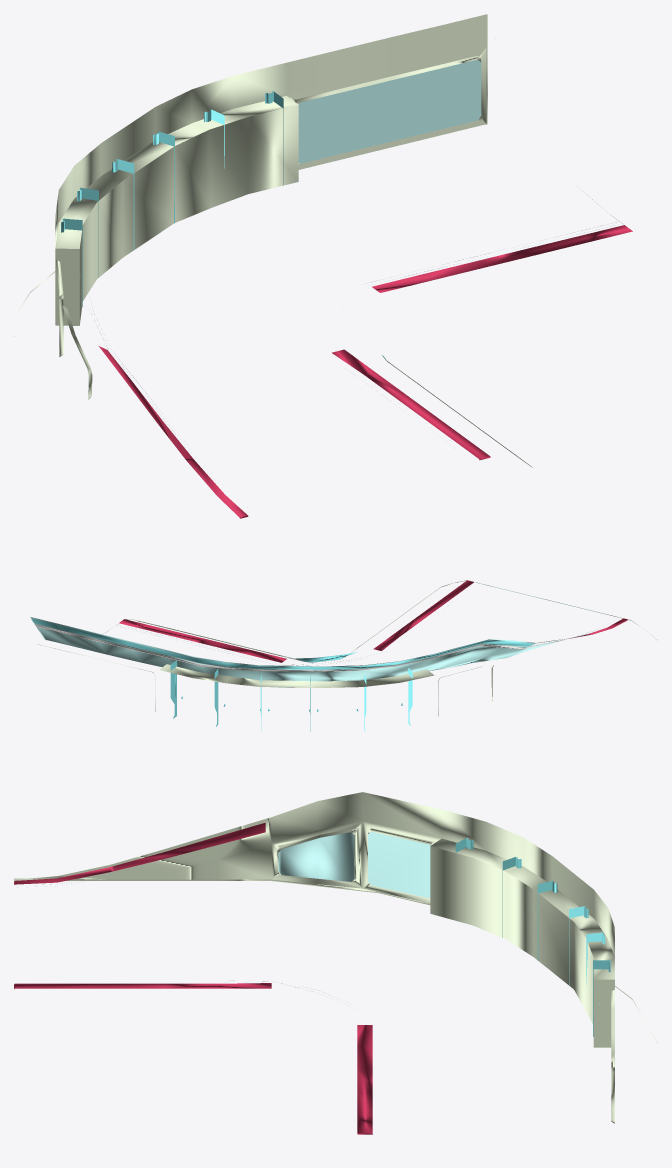
File: RaceTrack_clean_business_prop_uee_15.glb
3 views of the same model, one above another, from view 1: azimuth 30°, elevation 25°; view 2: azimuth 150°, elevation 25°; view 3: azimuth 270°, elevation 25° (orthographic). The views are drawn at different scales.
Bounding box in the file's own units: 15 × 3.01 × 15.
